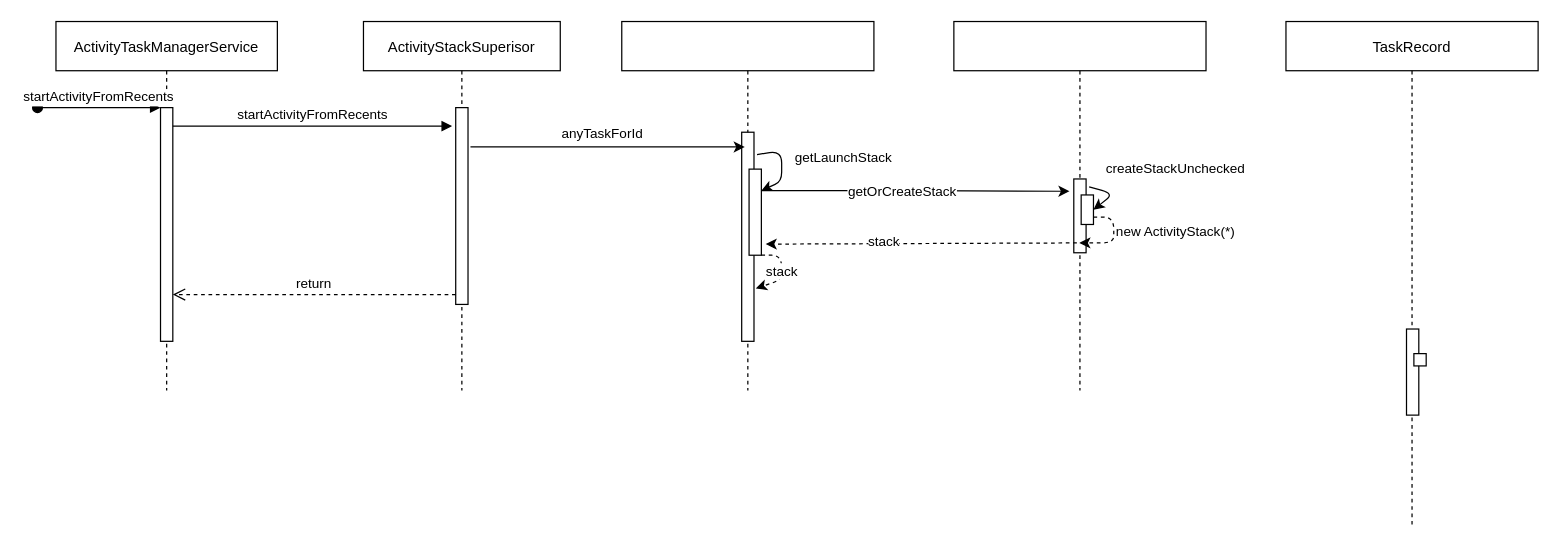
Some shapes in this 1560 by 547 pixel diagram are drawn without their labels. Each missing label, with the centre of its shape:
"ActivityDisplay" belongs at (x=1079, y=205).
"RootActivityContainer" belongs at (x=747, y=205).
